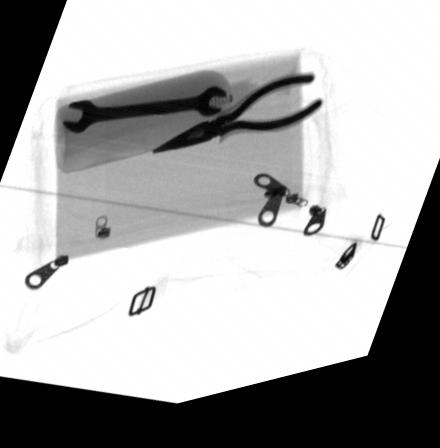Pliers: (150, 89, 324, 163)
Wrench: (60, 97, 230, 139)
